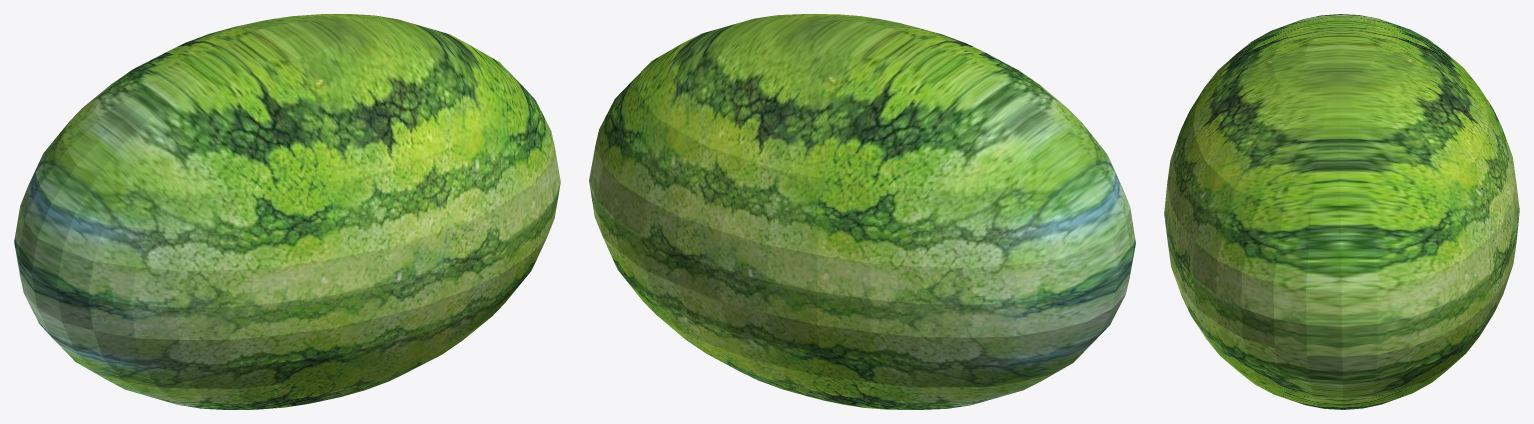
The model's file is dela3_glb.glb.
3 renders of one model, left to right at view 1: azimuth 30°, elevation 25°; view 2: azimuth 150°, elevation 25°; view 3: azimuth 270°, elevation 25°, orthographic. The views are drawn at different scales.
Parts seen in each view (by area): view 1: Sphere; view 2: Sphere; view 3: Sphere.
Boxes of the visible parts, box(x1,y1,x2,y2) form: Sphere: box(14, 14, 560, 409); Sphere: box(589, 14, 1135, 409); Sphere: box(1164, 14, 1519, 409).
Size of the model in its own units: 3.06 by 2 by 2.
Materials: 1 (1 with a texture image).
